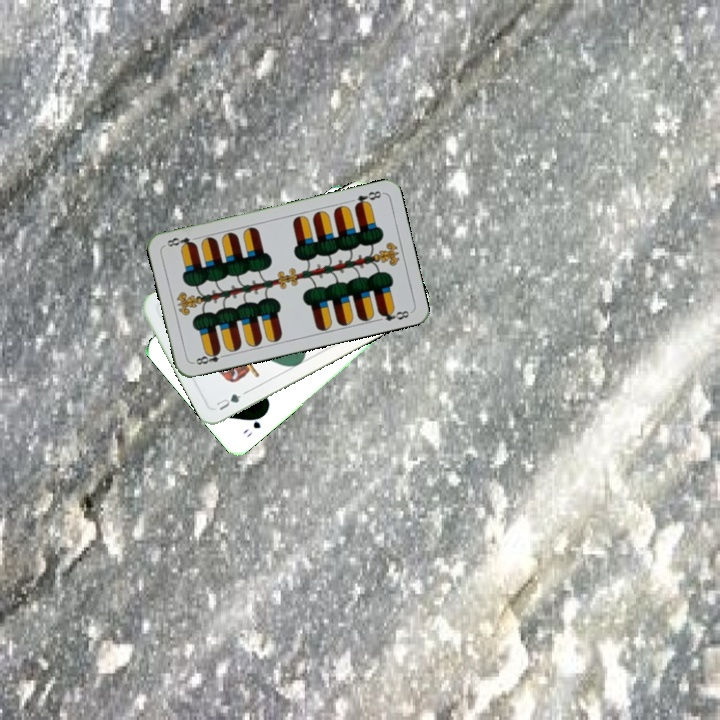E8: (189, 346, 229, 368), (350, 187, 385, 210)
GO: (239, 410, 268, 440)
GU: (212, 390, 244, 413)
